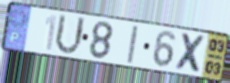1: (44, 14, 58, 52)
6: (152, 30, 178, 69)
8: (89, 21, 115, 61)
I: (125, 24, 140, 66)
U: (53, 12, 87, 57)
X: (174, 31, 208, 76)
